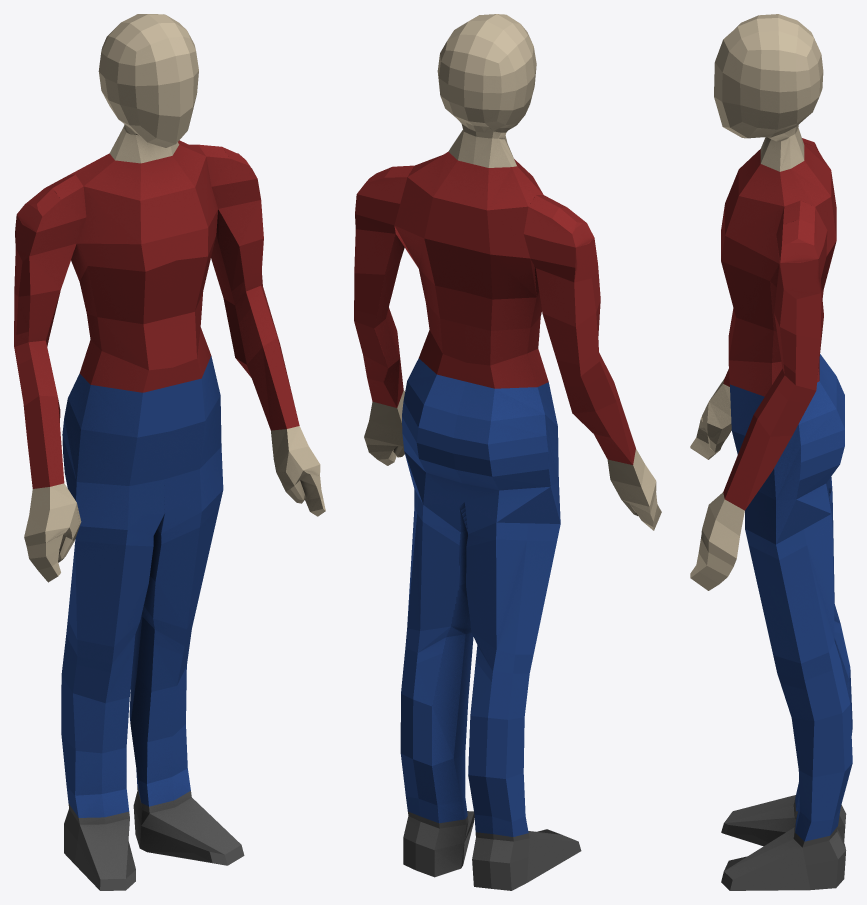
Rendered from SimpleGuy.fbx.
The picture shows the model from 3 angles, left to right: view 1: azimuth 30°, elevation 25°; view 2: azimuth 150°, elevation 25°; view 3: azimuth 270°, elevation 25°; orthographic projection.
Visible parts, largest first — view 1: Body; view 2: Body; view 3: Body.
Part boxes in pixels (x1=…): Body: x1=14, y1=14, x2=325, y2=890; Body: x1=354, y1=14, x2=661, y2=890; Body: x1=690, y1=14, x2=852, y2=890.
Size of the model in its own units: 177 by 495 by 86.26.
Materials: 1 (1 with a texture image).
